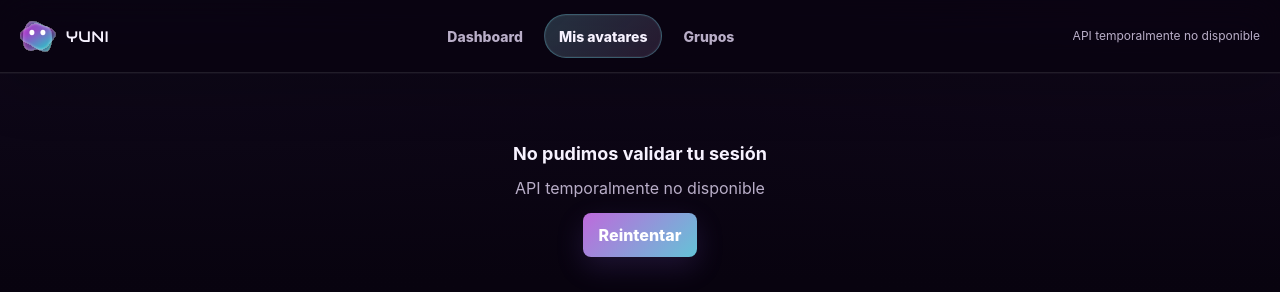
Scenario: PrivateAreaLayout session gate › offers a retry for a non-authentication failure
Expected: the heading "No pudimos validar tu sesión" is shown, top-left (513, 143), bottom-right (767, 164)
Expected: the text "Contenido recuperado" is not shown
Click the button "Reintentar": x=640, y=235 top-left (583, 213), bottom-right (697, 257)
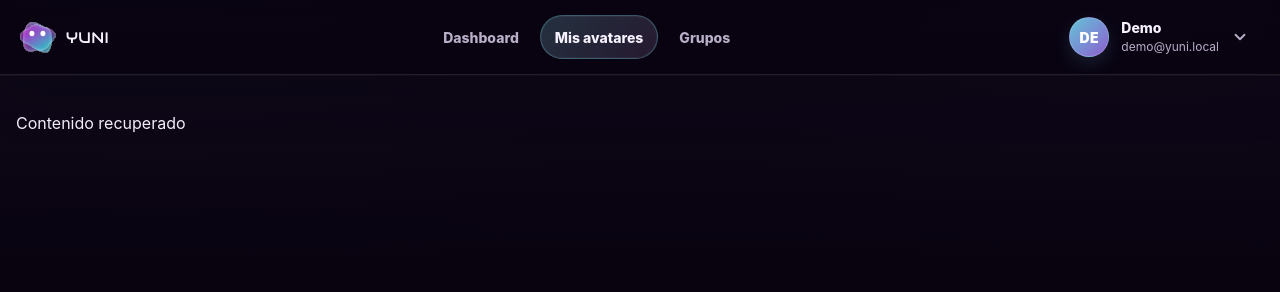
Expected: the text "Contenido recuperado" is shown, top-left (16, 113), bottom-right (186, 133)
